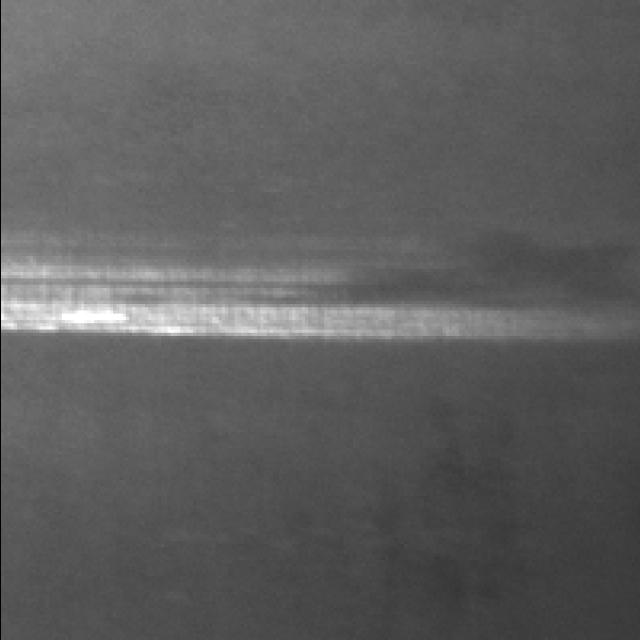scratches: (0, 262, 640, 336)
